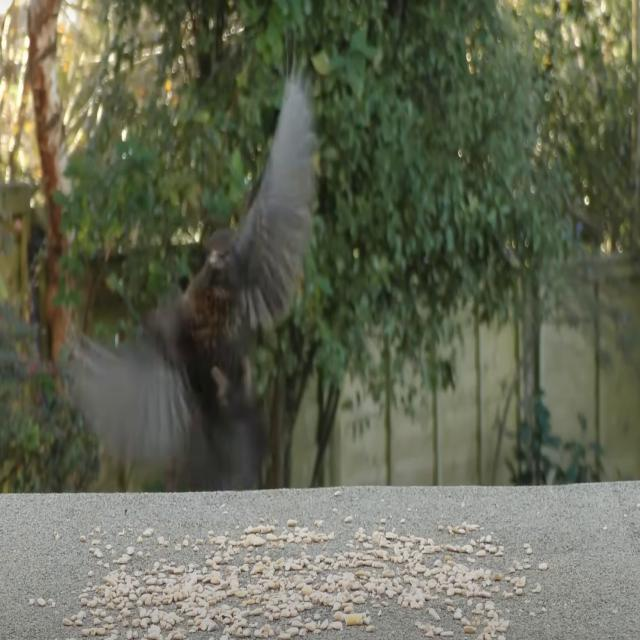bird: (68, 49, 321, 481)
